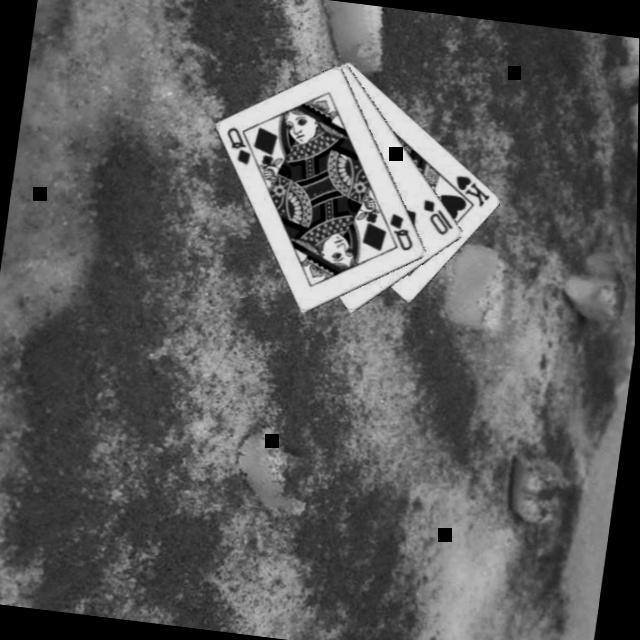10D: (419, 194, 461, 236)
KH: (452, 168, 498, 209)
QD: (222, 120, 260, 166), (384, 208, 422, 252)
